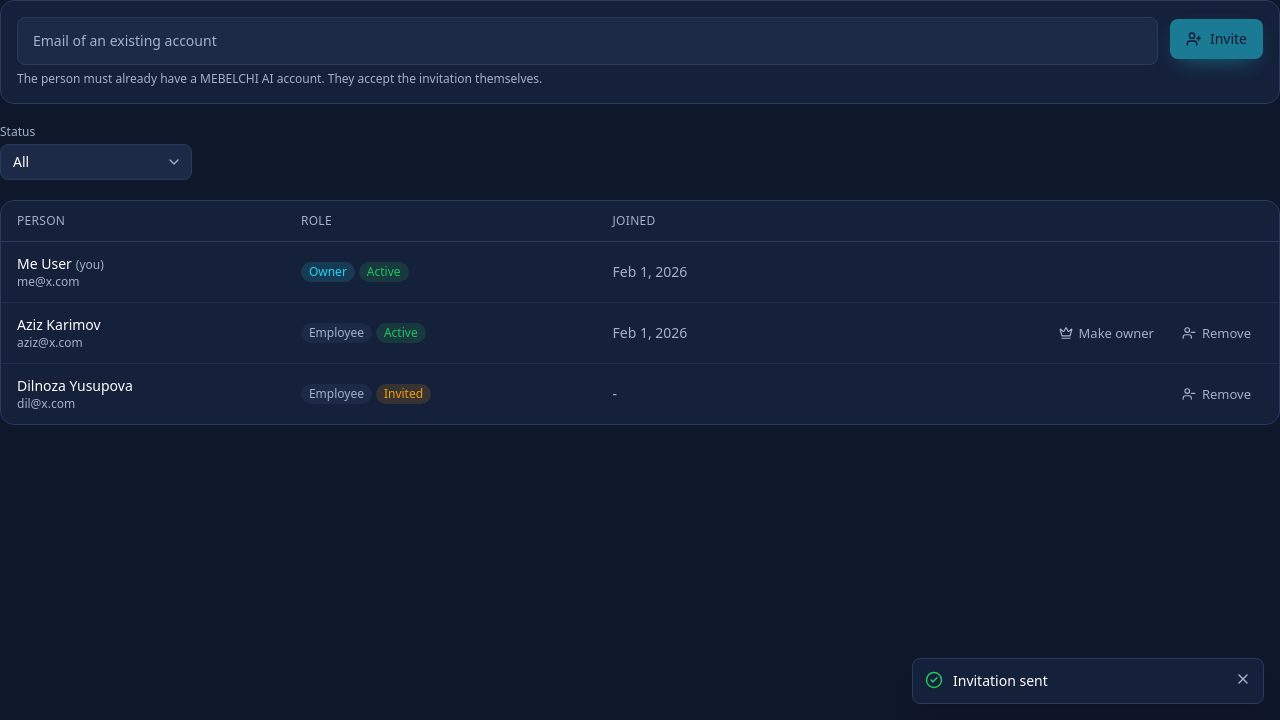
TeamTab (owner) › removing needs a confirmation that names the person
Later steps or results of the test are not shown.
Click the button with aria-label "Remove: Aziz Karimov" at (1216, 333), box [1170,317,1263,349]
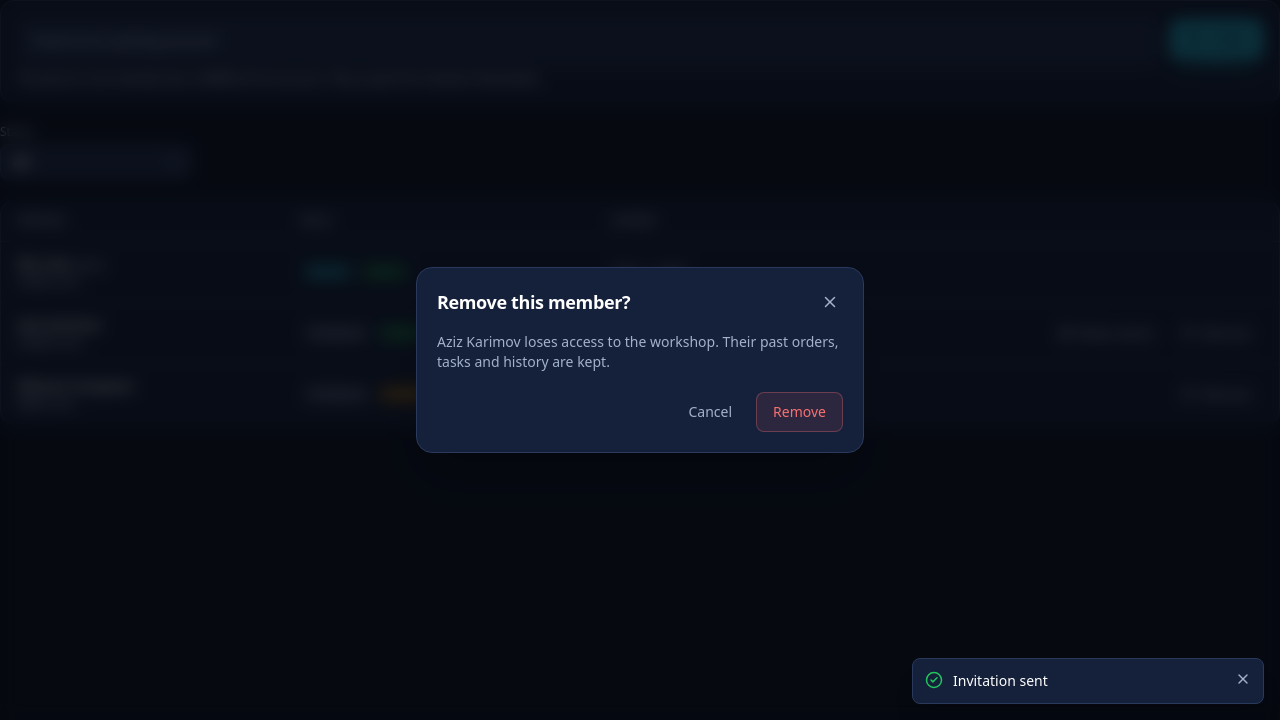
Now the dialog "Remove this member?" shows "Aziz Karimov loses access", box [437,332,838,371]
